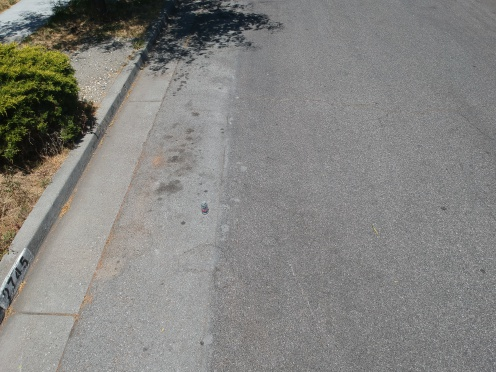can: (194, 196, 212, 216)
